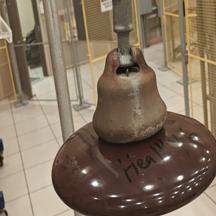insulator: (44, 41, 216, 216)
